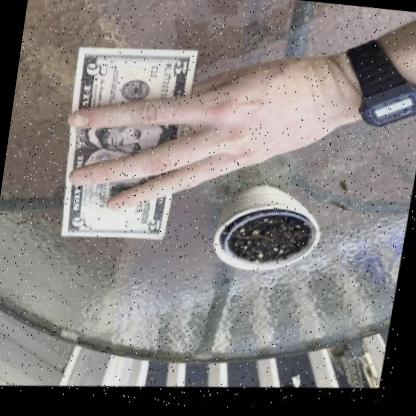dollar_front: (61, 48, 197, 243)
